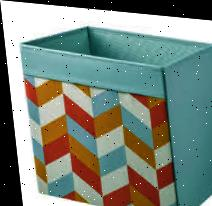cube: (16, 18, 212, 206)
